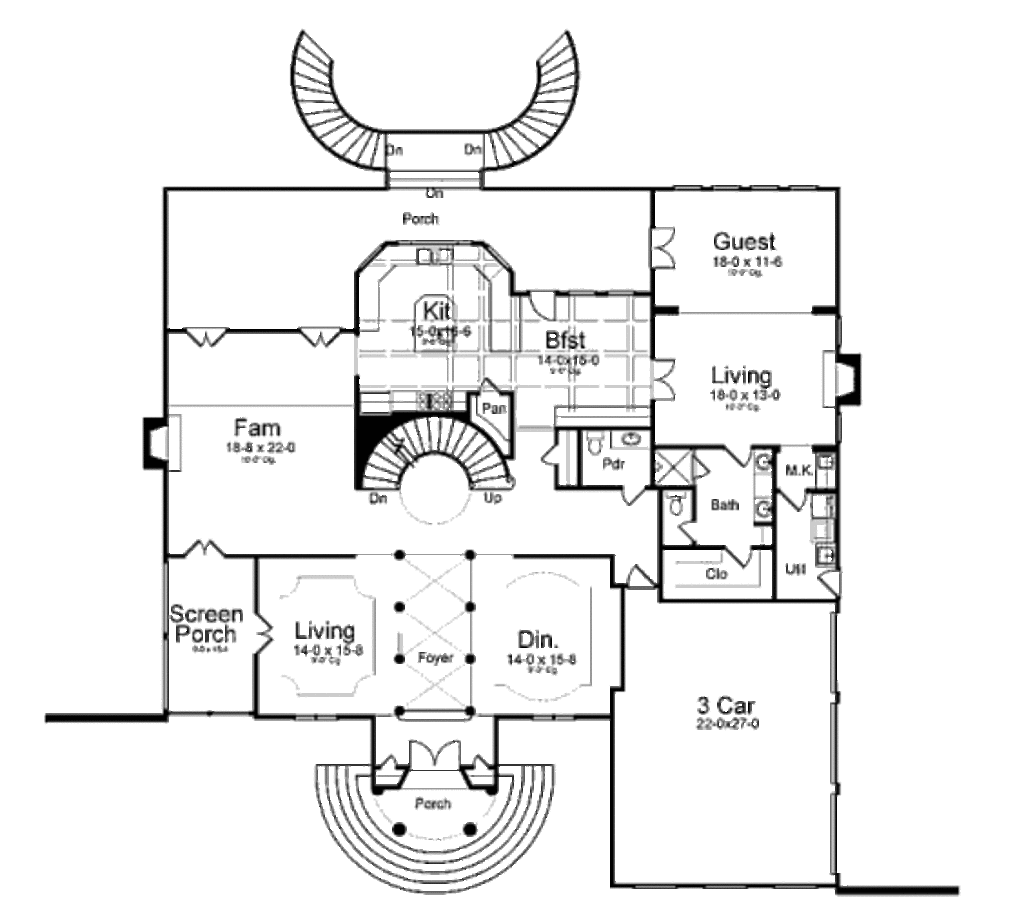door: (647, 224, 681, 273), (647, 359, 681, 405), (181, 325, 229, 353), (524, 289, 556, 322), (253, 611, 276, 655), (725, 545, 758, 573), (301, 328, 340, 351), (182, 539, 225, 559), (627, 562, 657, 588), (781, 489, 809, 514), (724, 444, 752, 468), (620, 486, 647, 509), (538, 438, 556, 469)
large_sink: (660, 488, 691, 516), (584, 432, 606, 456)
small_sink: (610, 428, 651, 454)
stairs: (284, 28, 388, 178), (360, 420, 513, 501), (485, 37, 579, 168)
